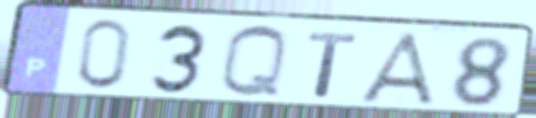0: (74, 17, 134, 94)
3: (146, 21, 210, 96)
8: (449, 35, 514, 109)
A: (354, 30, 444, 109)
Q: (217, 22, 292, 101)
T: (305, 29, 362, 100)
